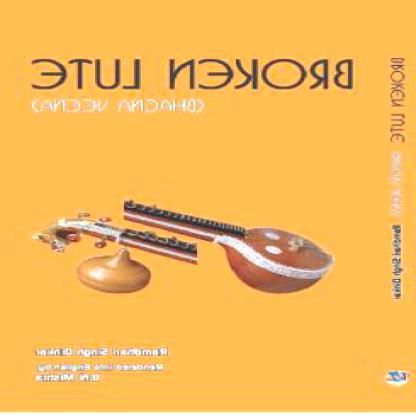Veena: (25, 193, 342, 297)
